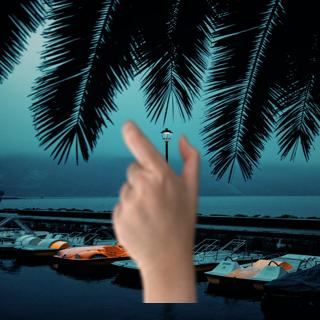Irritated: (104, 115, 207, 301)
